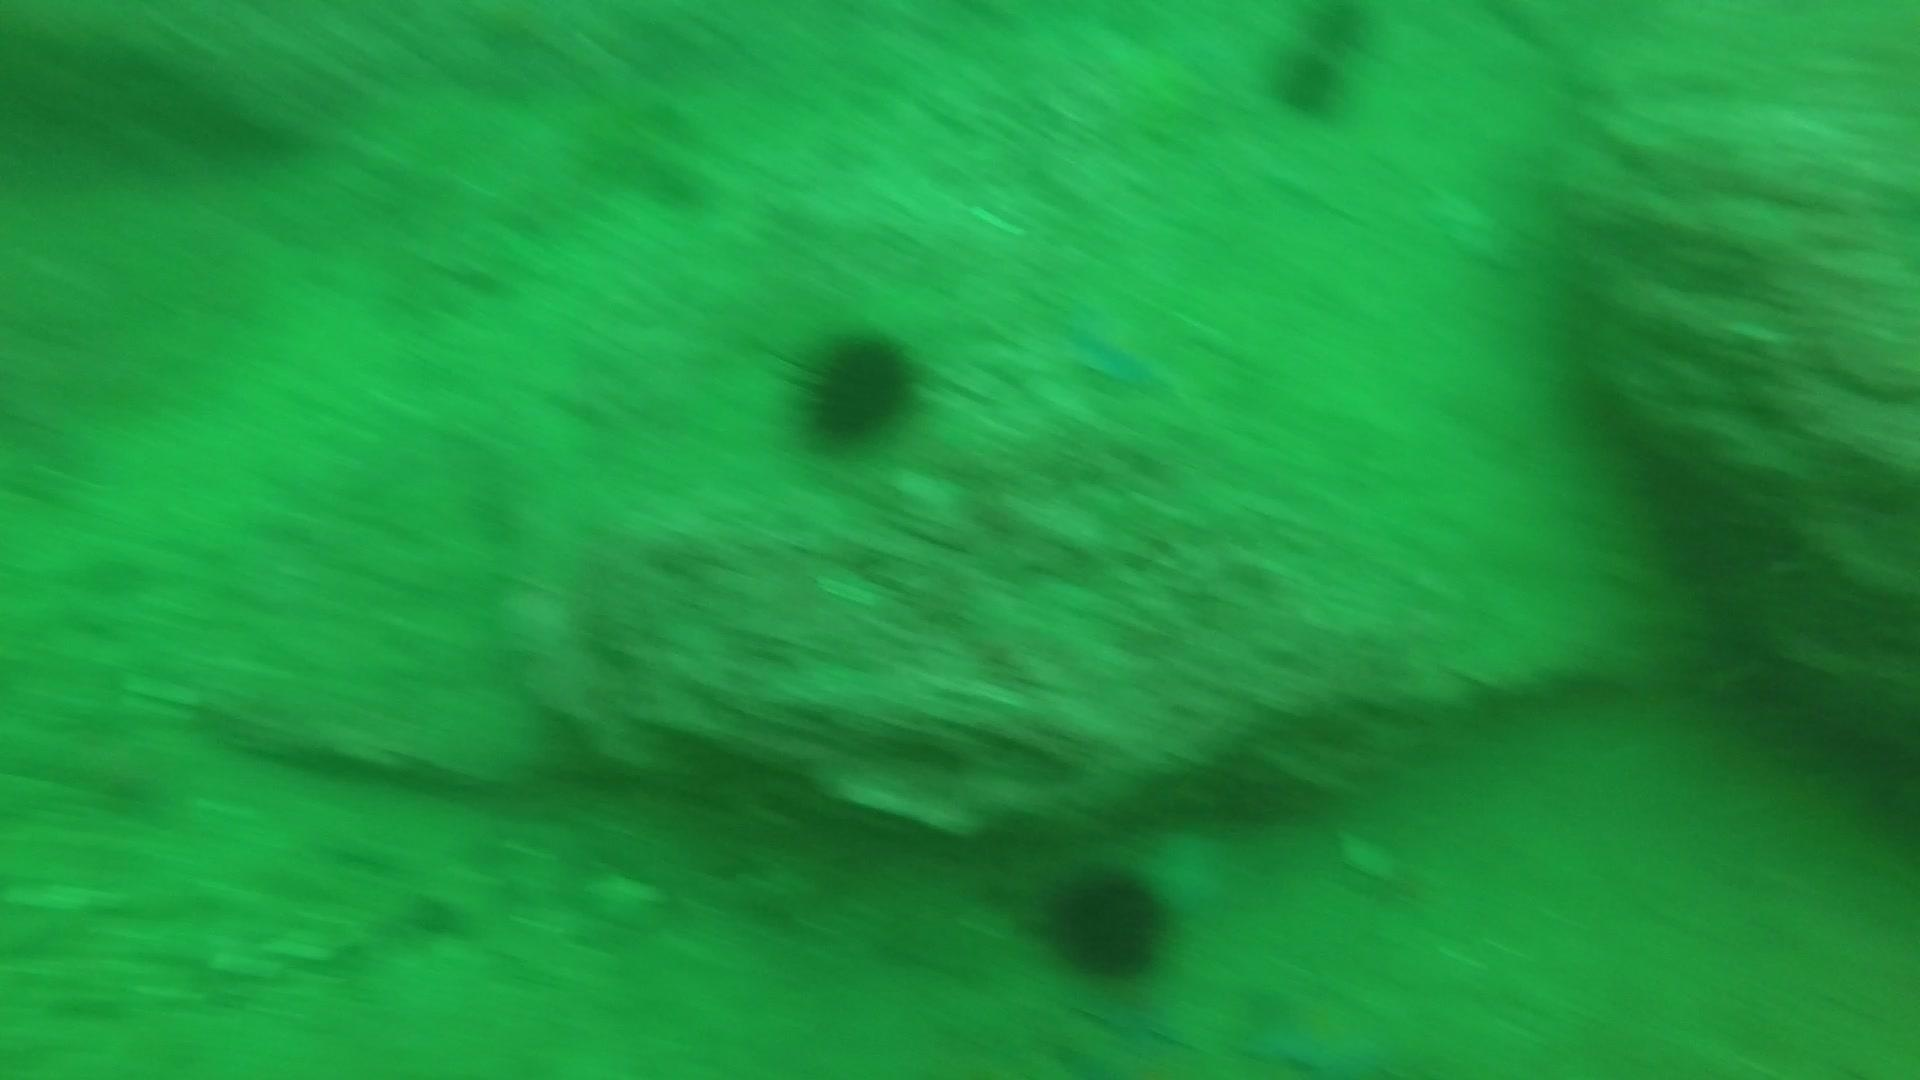echinus: (781, 320, 926, 454), (1036, 858, 1178, 986), (1263, 40, 1358, 127), (1288, 0, 1385, 61)
starfish: (1238, 978, 1399, 1077), (1058, 301, 1182, 400)
